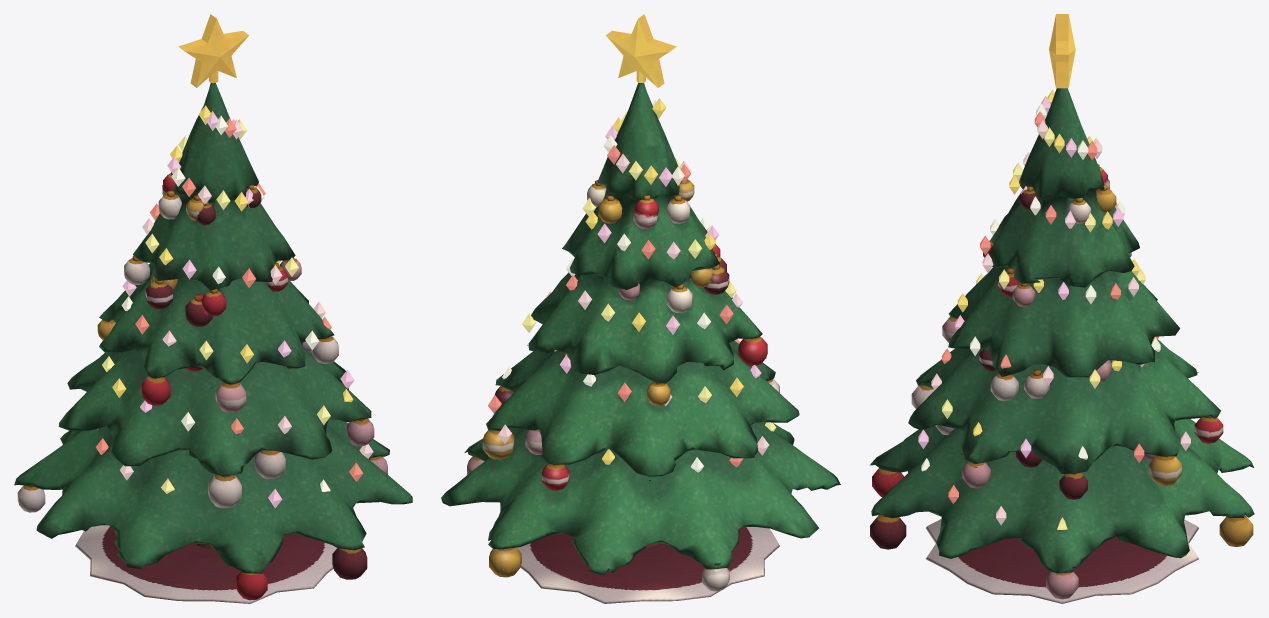
File: tree_big.glb
3 renders of one model, left to right at view 1: azimuth 30°, elevation 25°; view 2: azimuth 150°, elevation 25°; view 3: azimuth 270°, elevation 25°, orthographic.
Visible parts, largest first — view 1: Foliage, Ornaments, Skirt, Lights, Star; view 2: Foliage, Skirt, Ornaments, Lights, Star; view 3: Foliage, Ornaments, Skirt, Lights, Star.
Boxes of the visible parts, <box> form: Foliage: <box>14,83,412,573</box>; Ornaments: <box>17,172,387,600</box>; Skirt: <box>75,525,336,603</box>; Lights: <box>96,105,373,508</box>; Star: <box>178,14,248,87</box>; Foliage: <box>441,83,840,574</box>; Skirt: <box>516,527,779,603</box>; Ornaments: <box>467,179,779,591</box>; Lights: <box>488,98,776,472</box>; Star: <box>606,14,676,87</box>; Foliage: <box>869,88,1254,573</box>; Ornaments: <box>870,164,1253,599</box>; Skirt: <box>925,519,1198,603</box>; Lights: <box>918,90,1190,529</box>; Star: <box>1049,14,1075,88</box>.
Bounding box in the file's own units: 4.58 × 6.67 × 4.4.
Materials: 2 (2 with a texture image).
